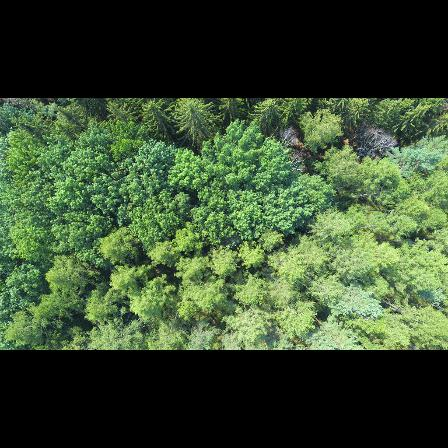Dead: (355, 123, 397, 160), (278, 123, 297, 147)
